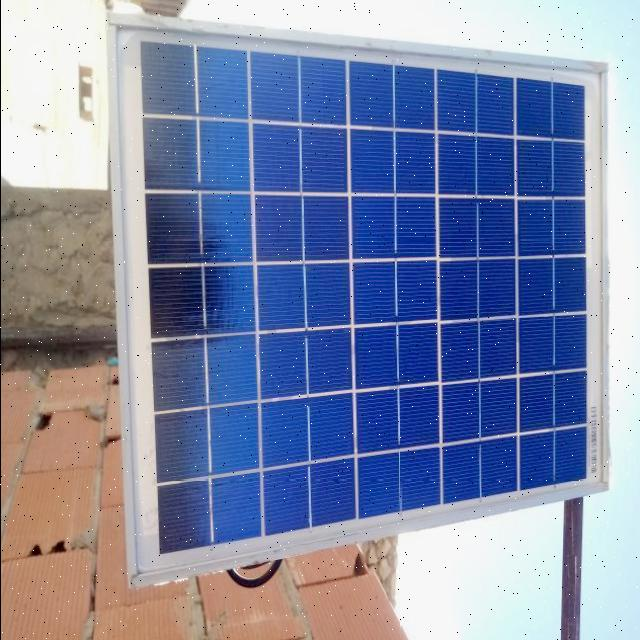Normal Solar Panel: (108, 14, 608, 592)
